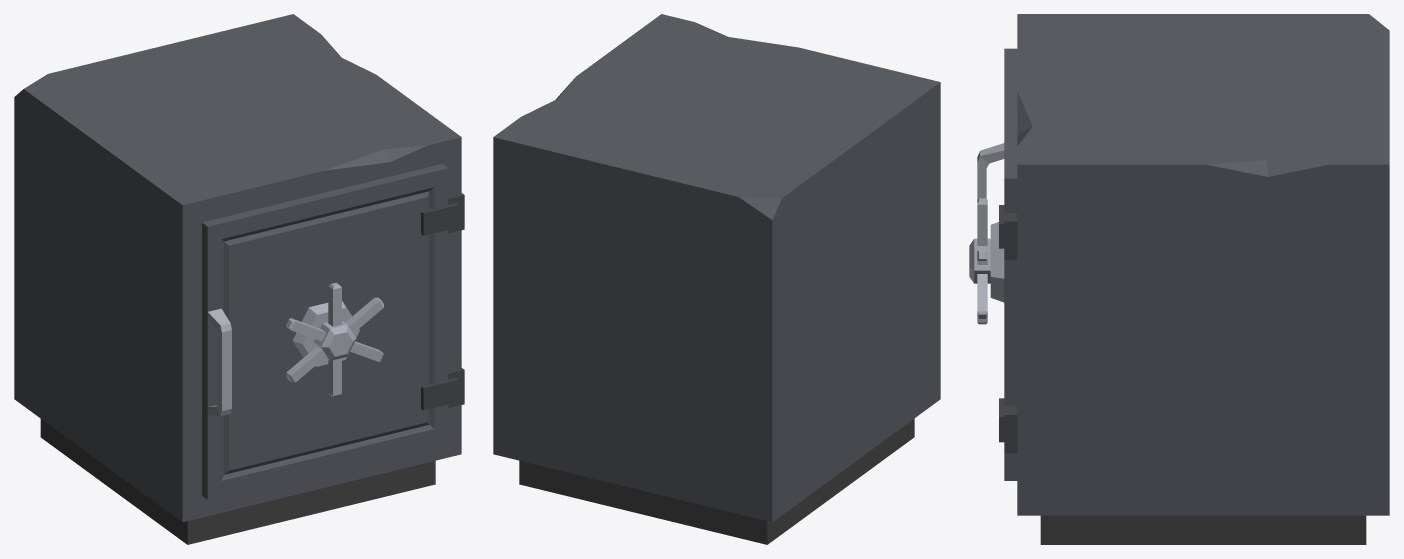
Rendered from SM_Prop_Safe_01.fbx.
3 renders of one model, left to right at view 1: azimuth 30°, elevation 25°; view 2: azimuth 150°, elevation 25°; view 3: azimuth 270°, elevation 25°, orthographic. The views are drawn at different scales.
Visible parts, largest first — view 1: SM_Prop_Safe_01, SM_Prop_Safe_Door_01; view 2: SM_Prop_Safe_01; view 3: SM_Prop_Safe_01, SM_Prop_Safe_Door_01.
Boxes of the visible parts, box(x1,y1,x2,y2) form: SM_Prop_Safe_01: box(14, 14, 464, 544); SM_Prop_Safe_Door_01: box(202, 164, 458, 499); SM_Prop_Safe_01: box(493, 14, 940, 544); SM_Prop_Safe_01: box(1004, 14, 1389, 544); SM_Prop_Safe_Door_01: box(969, 48, 1017, 480).
Size of the model in its own units: 50.84 by 61.11 by 59.91.
